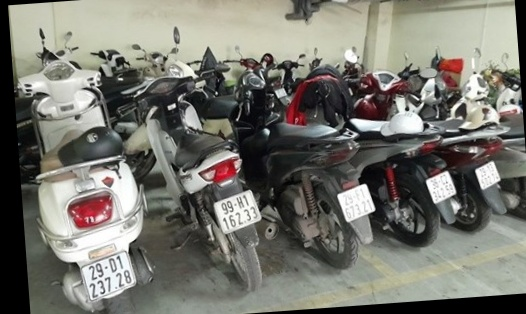Bien-so: (43, 223, 101, 274), (190, 185, 246, 229), (324, 195, 368, 238), (421, 196, 455, 229), (473, 192, 505, 226)
